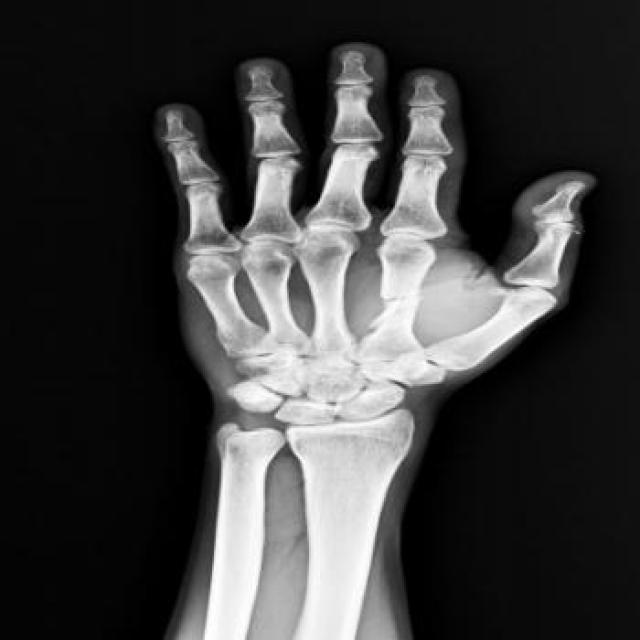Fracture: (373, 286, 440, 316)
